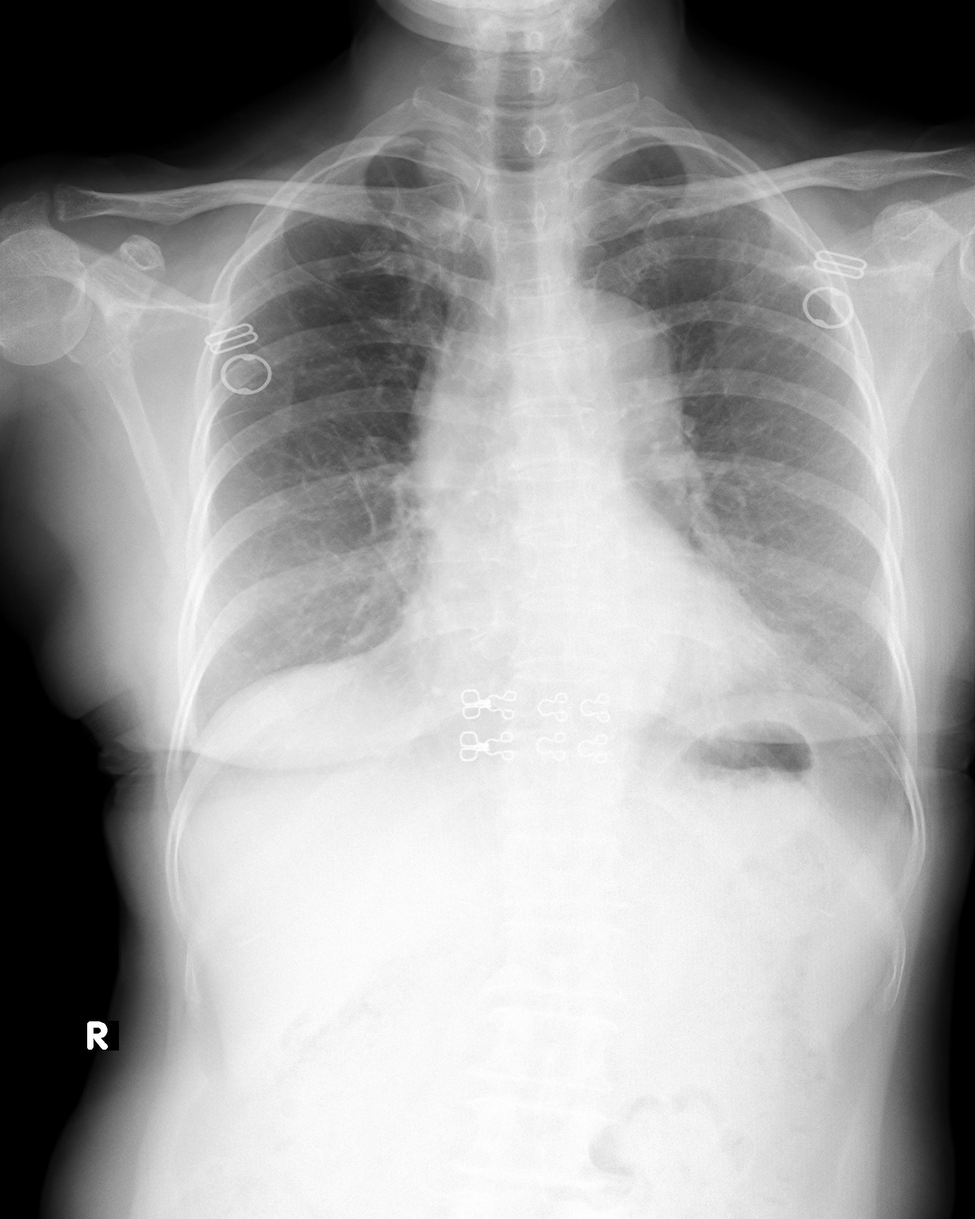Aortic enlargement: (537, 287, 683, 430)
Cardiomegaly: (389, 591, 789, 725)
Pleural thickening: (384, 130, 479, 167)
Pulmonary fibrosis: (329, 156, 460, 374), (351, 474, 407, 603), (784, 263, 813, 284)
